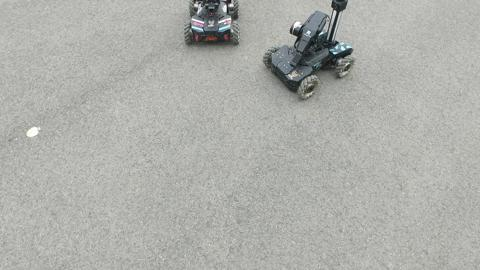chariot: (260, 1, 362, 101), (176, 1, 247, 50)
